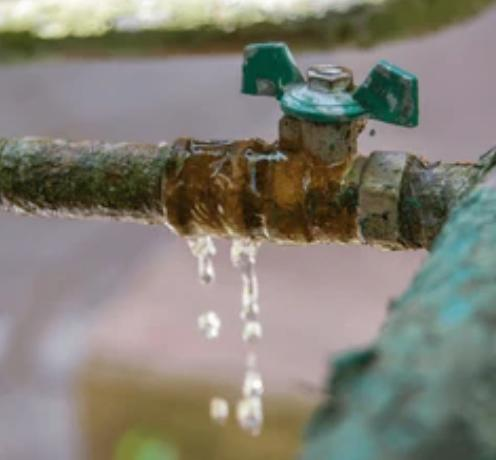water drop: (188, 236, 216, 283), (238, 395, 263, 433), (198, 310, 219, 338), (208, 394, 229, 422), (242, 370, 265, 394), (240, 320, 263, 343)
